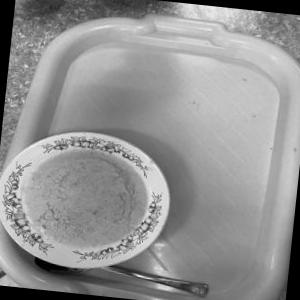porridge: (0, 114, 173, 271)
